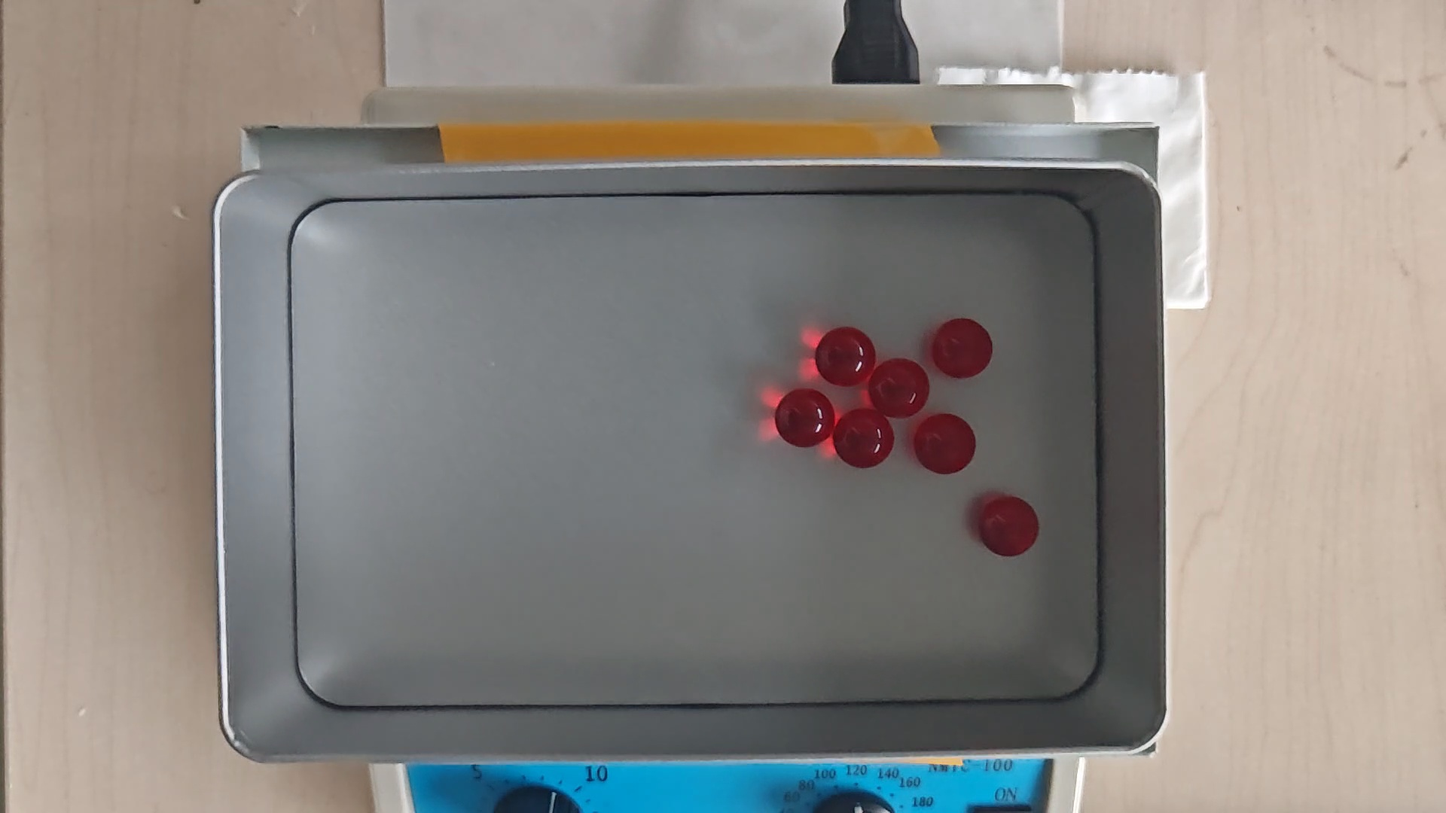ball: (834, 407, 894, 467), (978, 496, 1038, 556), (916, 413, 974, 474), (871, 360, 929, 419), (776, 387, 833, 447), (934, 319, 991, 378), (819, 328, 873, 385)
container: (288, 196, 1102, 708)
